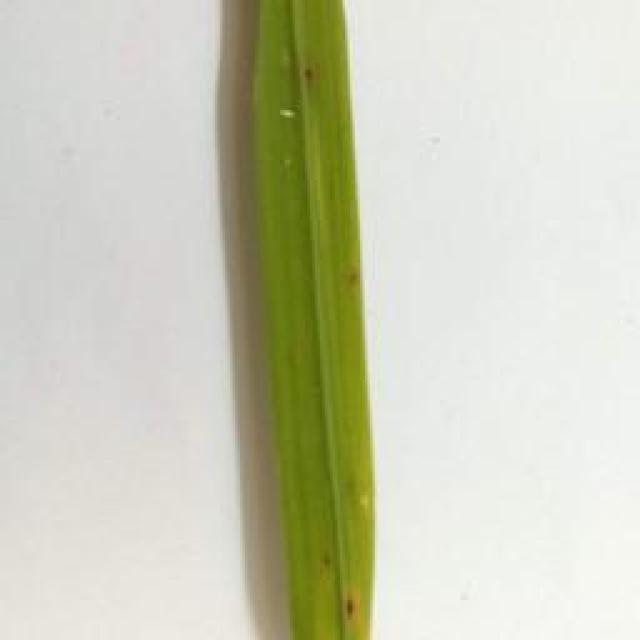Brown_Spot: (277, 40, 348, 108), (324, 567, 374, 640), (324, 249, 382, 309)
